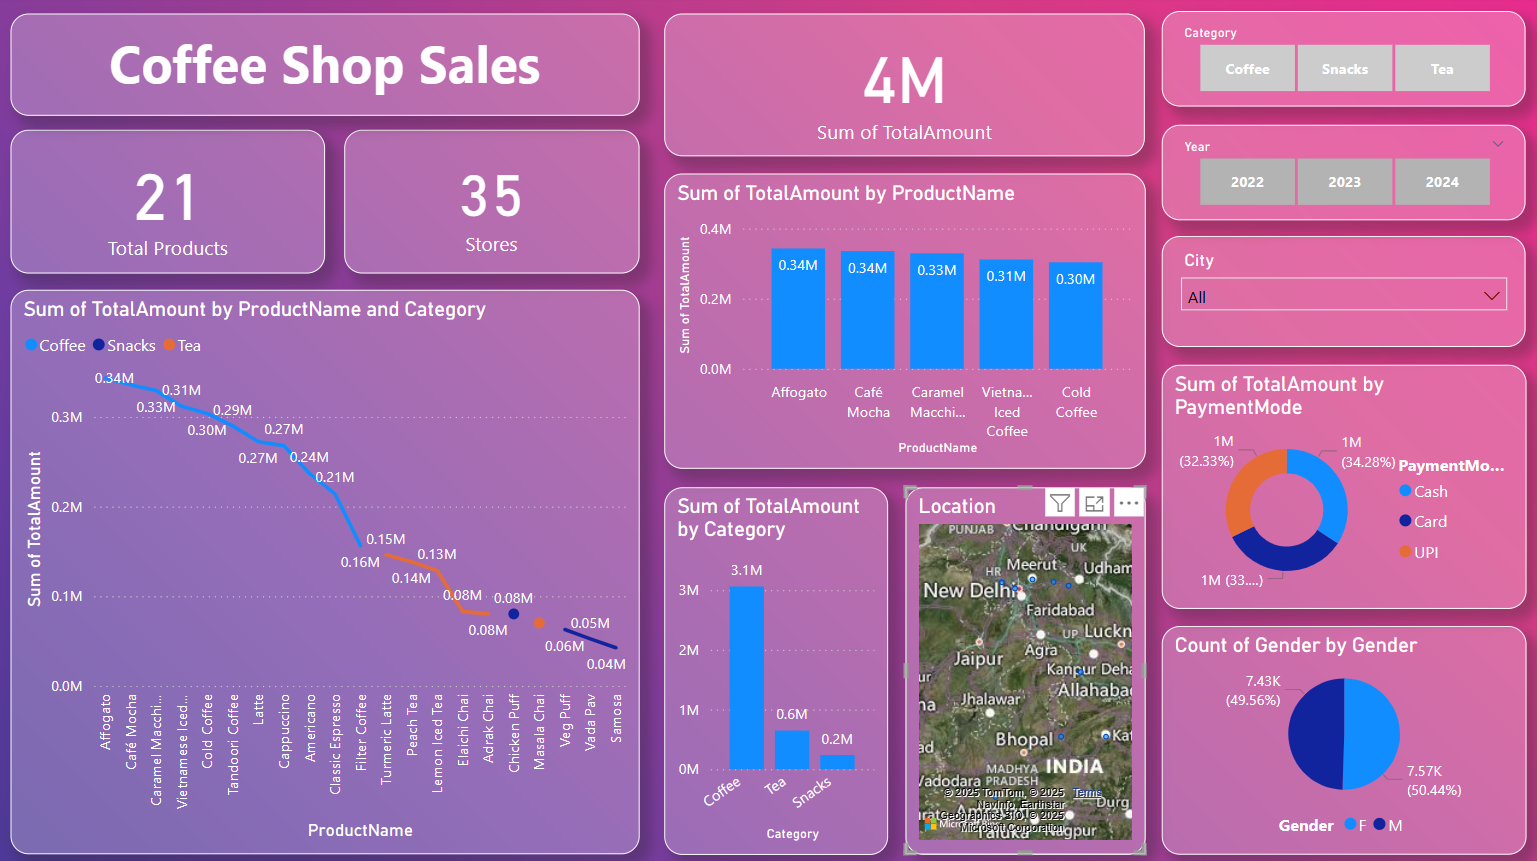

What the dashboard file says about the page in this screenshot:
{"tool":"powerbi","page":{"name":"Page 1","canvas":[1280,720],"ordinal":0},"visuals":[{"type":"card","fields":{"Values":["Count(products.ProductID)"]},"box":[10.6,110.9,260.9,119.3],"z":0},{"type":"card","fields":{"Values":["Count(sales.StoreID)"]},"box":[287.3,110.9,245,119.3],"z":1000},{"type":"card","fields":{"Values":["Sum(sales.TotalAmount)"]},"box":[552.3,14.8,398.2,118.3],"z":2000},{"type":"columnChart","title":"Sales by Category","fields":{"Category":["products.Category"],"Y":["Sum(sales.TotalAmount)"]},"box":[552.3,407.3,185.5,304.7],"z":3000},{"type":"slicer","fields":{"Values":["products.Category"]},"box":[964.9,12.5,301.9,79.5],"z":4000},{"type":"columnChart","title":"Sales by Product Name","fields":{"Category":["products.ProductName"],"Y":["Sum(sales.TotalAmount)"]},"box":[552.3,147.2,399,244.6],"z":5000},{"type":"map","fields":{"Category":["stores.Location"]},"box":[752.3,407.3,199,304.7],"z":6000},{"type":"slicer","fields":{"Values":["sales.City"]},"box":[964.9,198.5,301.9,91.6],"z":7000},{"type":"pieChart","title":"Gender Cound","fields":{"Category":["sales.Gender"],"Y":["CountNonNull(sales.Gender)"]},"box":[965.1,522.3,302.3,189.5],"z":8000},{"type":"donutChart","title":"Total Sales by Payment Mode","fields":{"Category":["sales.PaymentMode"],"Y":["Sum(sales.TotalAmount)"]},"box":[965.1,306,302.3,202.3],"z":9000},{"type":"slicer","fields":{"Values":["sales.Date.Variation.Date Hierarchy.Year"]},"box":[964.9,106.9,301.9,79.5],"z":10000},{"type":"textbox","box":[10.6,14.8,521.7,84.5],"z":11000},{"type":"lineChart","title":"Total Sales by Product Name and Category","fields":{"Category":["products.ProductName"],"Series":["products.Category"],"Y":["Sum(sales.TotalAmount)"]},"box":[10.6,244,521.7,467.9],"z":12000}]}

Visuals, with their boxes in screenshot pixels (x1, y1, x2, y2), scaled from the page's 1280x720 canvas onto the 1537x861 screenshot:
card - Count(products.ProductID): 13, 133, 326, 275
card - Count(sales.StoreID): 345, 133, 639, 275
card - Sum(sales.TotalAmount): 663, 18, 1141, 159
"Sales by Category" columnChart: 663, 487, 886, 851
slicer - products.Category: 1159, 15, 1521, 110
"Sales by Product Name" columnChart: 663, 176, 1142, 469
map - stores.Location: 903, 487, 1142, 851
slicer - sales.City: 1159, 237, 1521, 347
"Gender Cound" pieChart: 1159, 625, 1522, 851
"Total Sales by Payment Mode" donutChart: 1159, 366, 1522, 608
slicer - sales.Date.Variation.Date Hierarchy.Year: 1159, 128, 1521, 223
textbox: 13, 18, 639, 119
"Total Sales by Product Name and Category" lineChart: 13, 292, 639, 851
